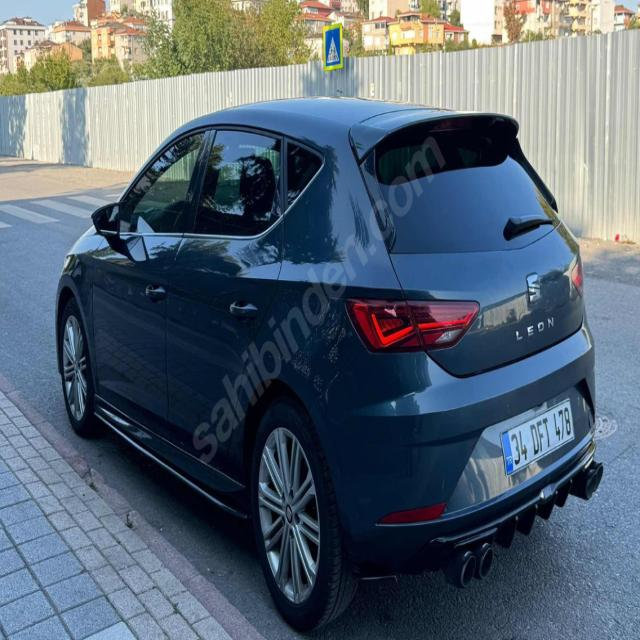seat: (526, 269, 544, 309)
